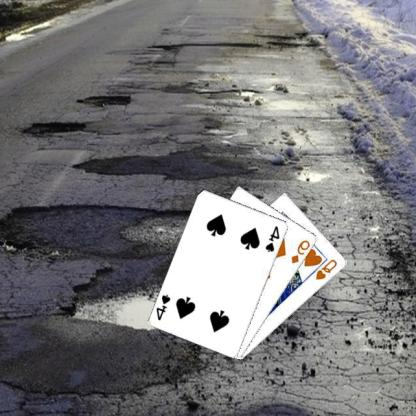4S: (264, 223, 284, 253), (156, 292, 173, 322)
9D: (290, 237, 314, 265)
QH: (315, 257, 341, 281)
